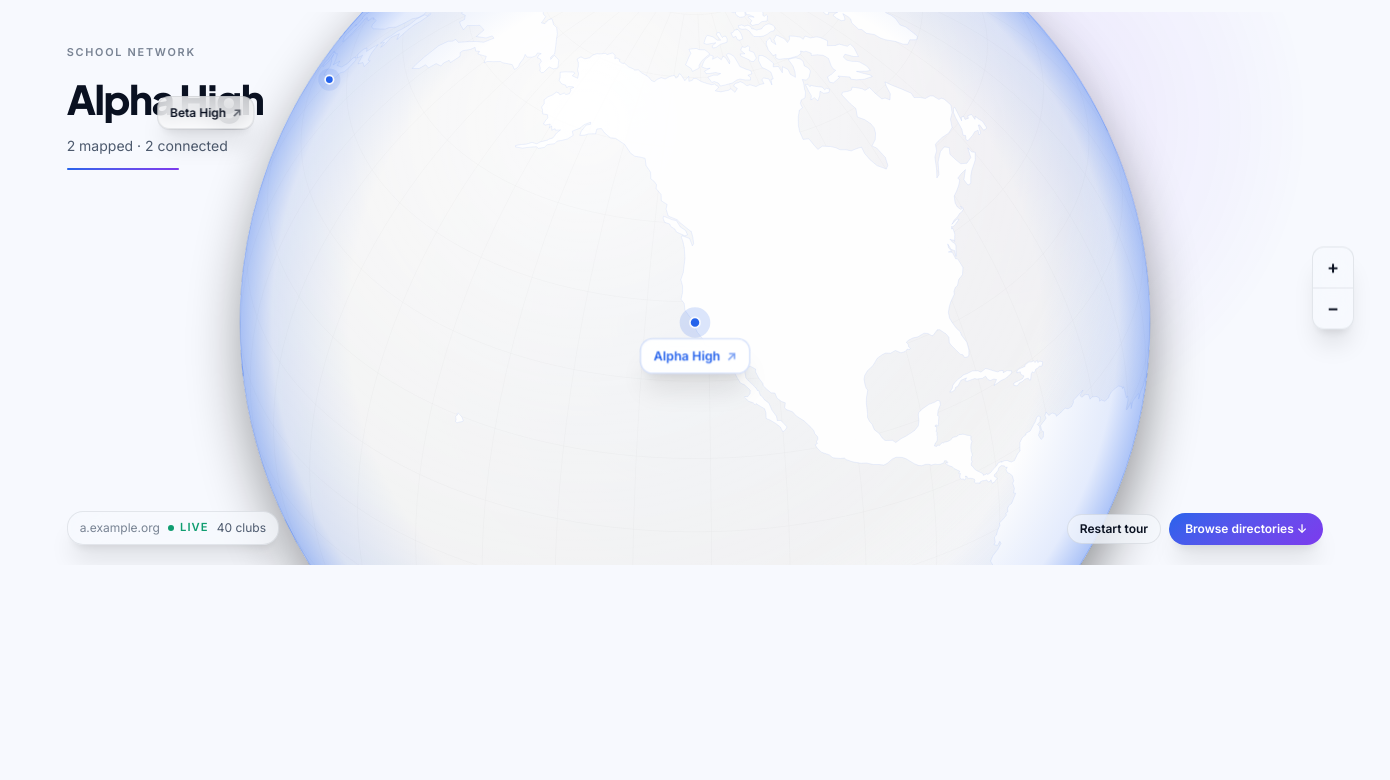
it: SchoolMap › returns to the tour without changing the zoom the person chose
Step 1. Press ArrowRight in the element named "Rotatable globe showing 2 school locations. Use the arrow ke"
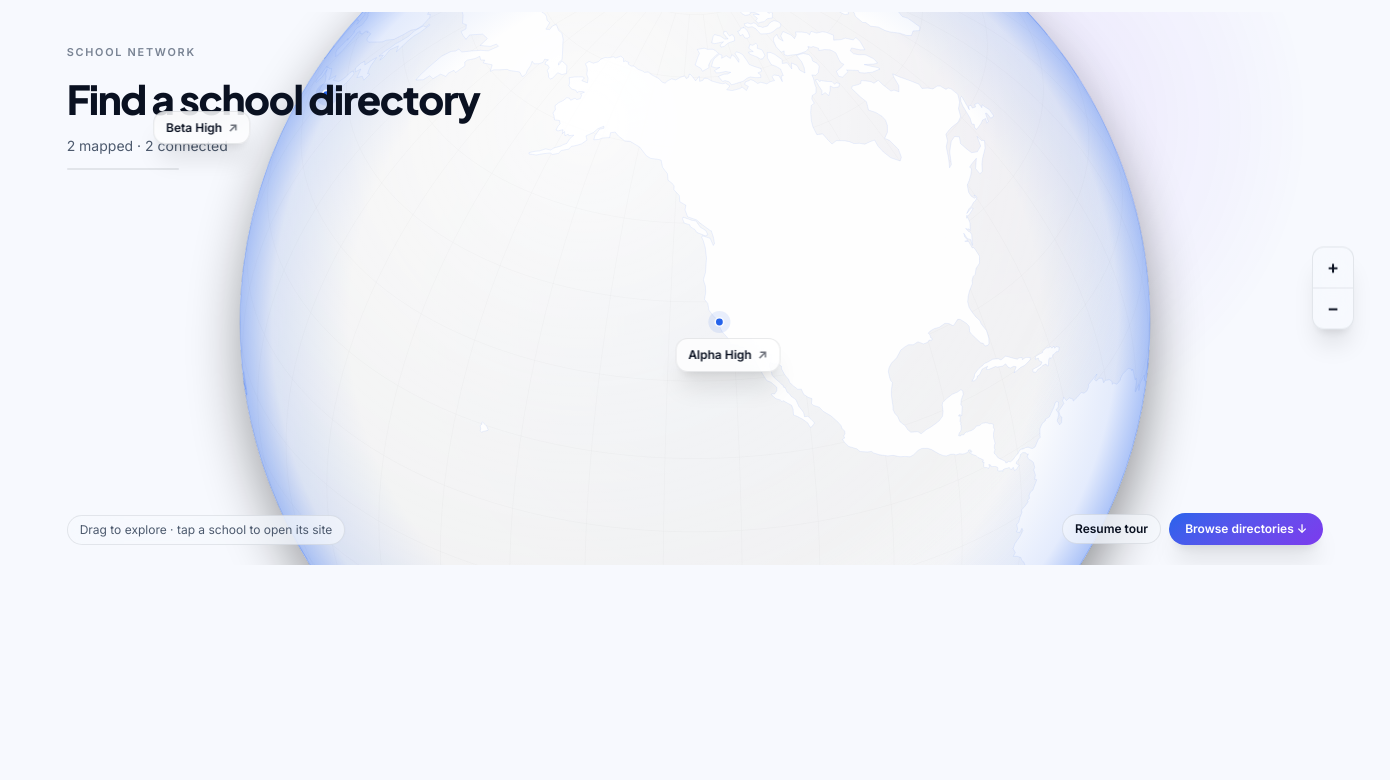
Step 2. Click the button named "Zoom in" → (1333, 268), box x1=1313 y1=248 x2=1353 y2=288
Wait 3000 ms
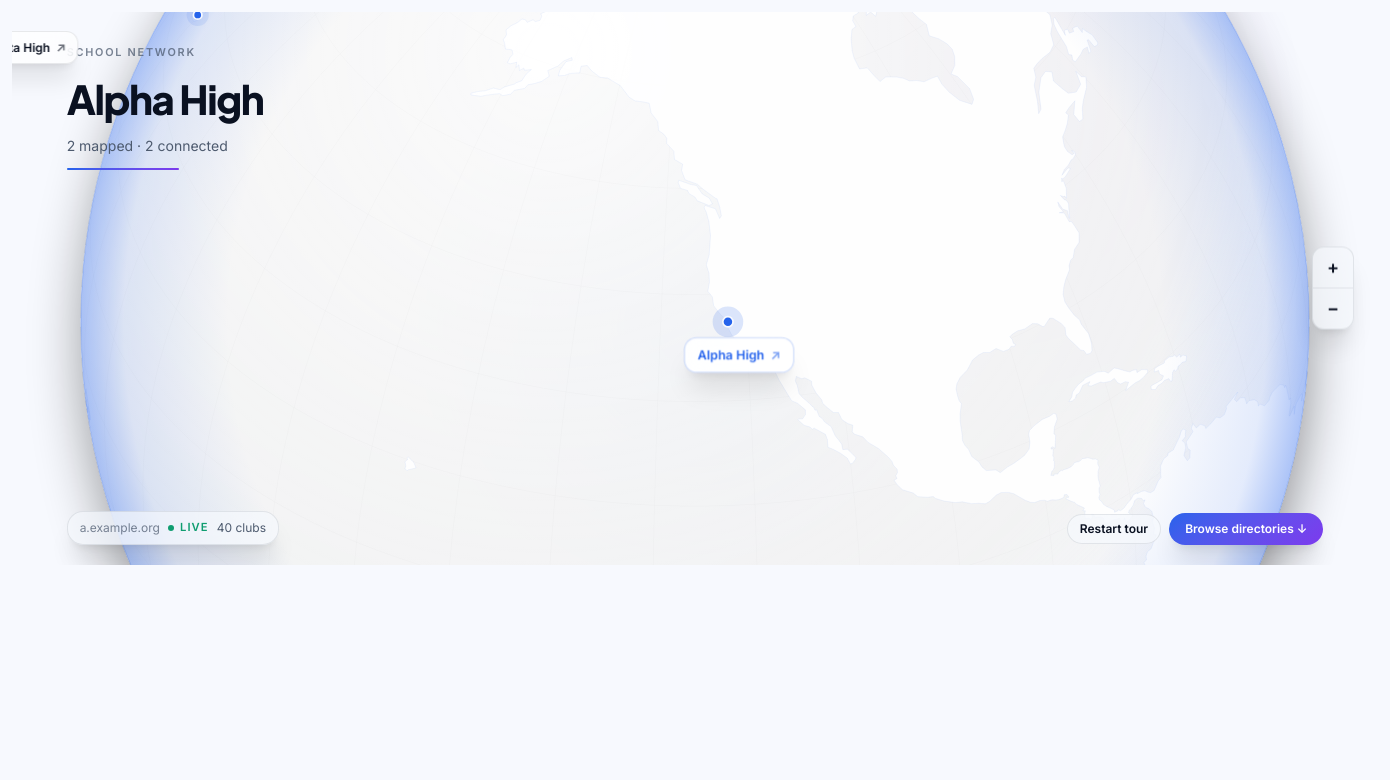
Now the heading reads "Alpha High", box x1=67 y1=73 x2=263 y2=124
